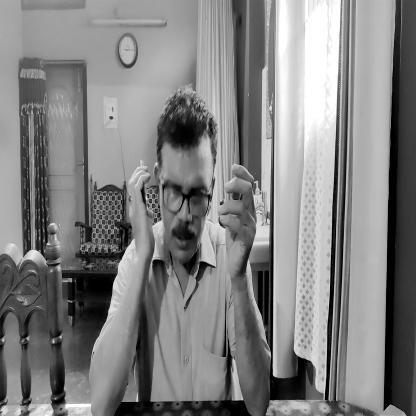Normal: (152, 89, 218, 266)
